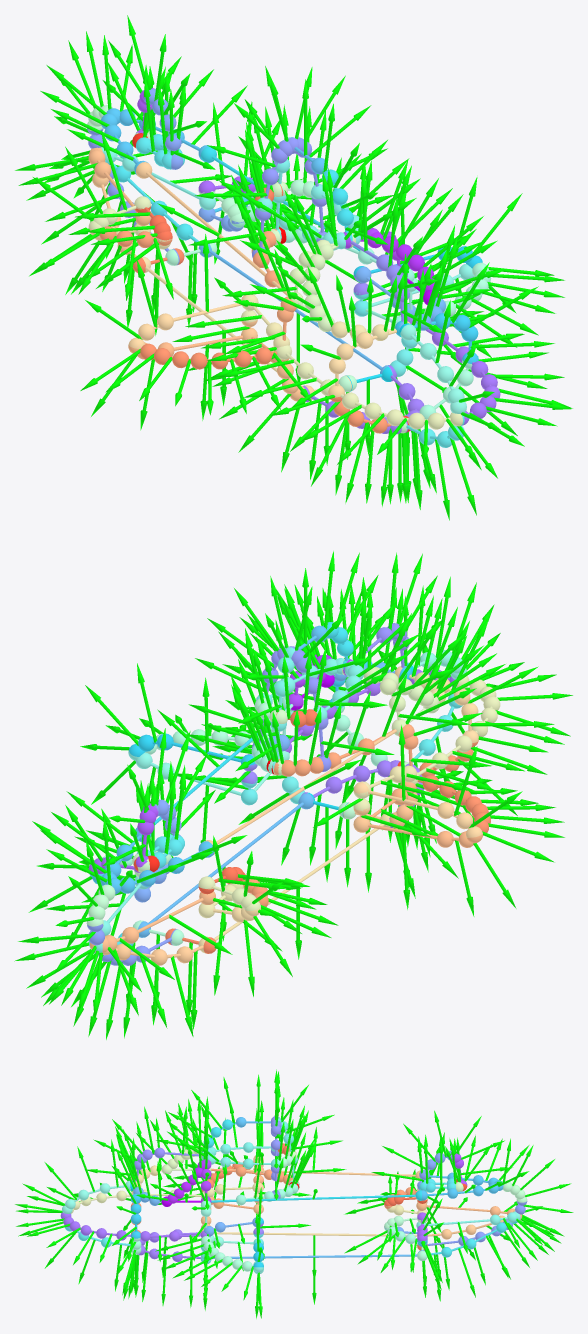
File: scaffolds3d_submarine.gltf
3 renders of one model, top to bottom at view 1: azimuth 30°, elevation 25°; view 2: azimuth 150°, elevation 25°; view 3: azimuth 270°, elevation 25°, orthographic. The views are drawn at different scales.
Bounding box in the file's own units: 0.643 × 0.4546 × 1.05.
